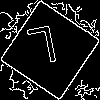L: (25, 25, 61, 76)
